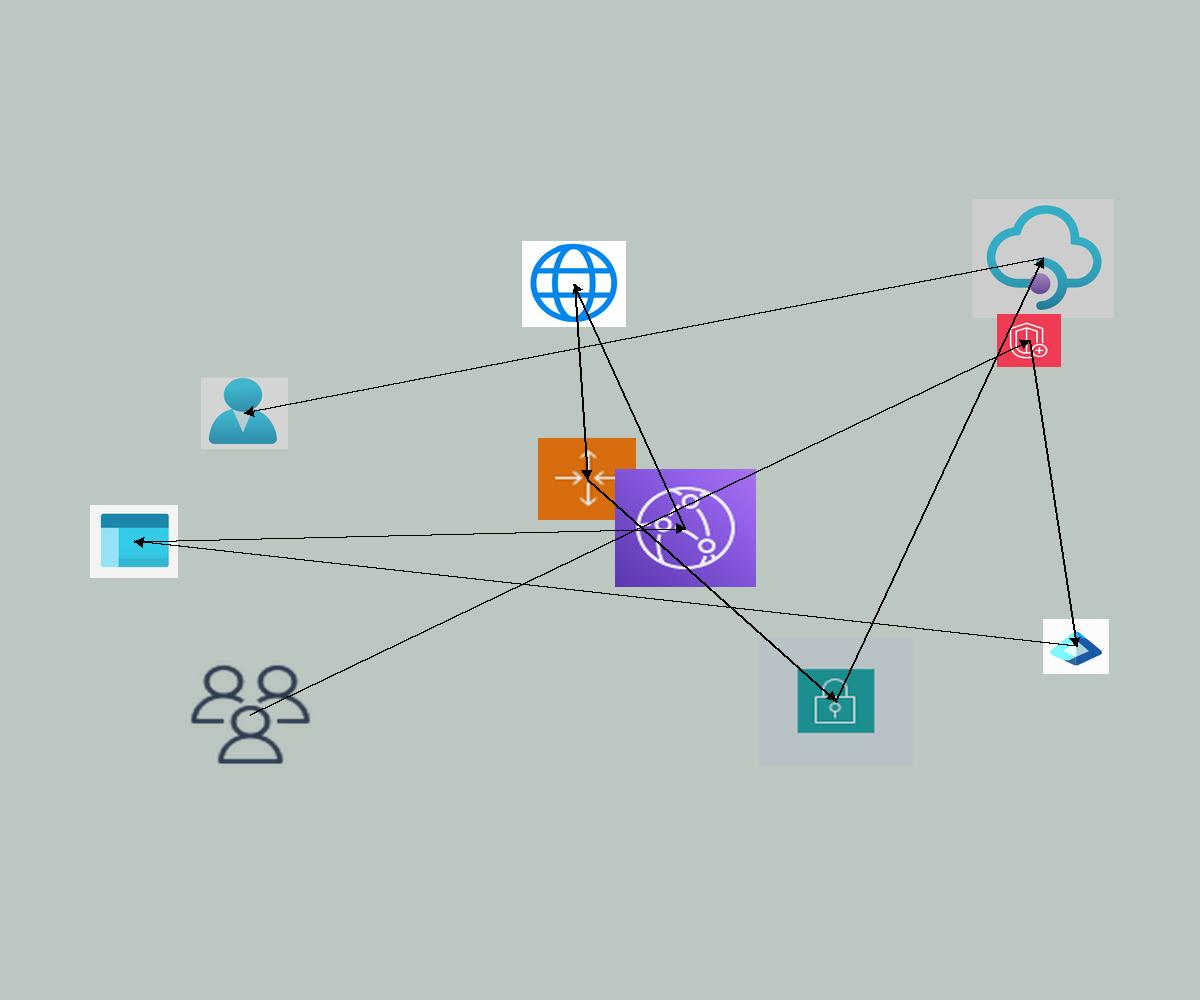AWS-CloudFront: (615, 469, 756, 587)
AWS-Private-subnet: (759, 637, 913, 765)
AWS-Res_Users: (186, 661, 315, 768)
AWS-Scaling-group: (538, 438, 636, 520)
AWS-Shield: (997, 314, 1061, 367)
Azure_api_gateway: (972, 199, 1114, 318)
Azure_http: (522, 241, 626, 327)
Azure_management-portal: (90, 505, 178, 578)
Azure_microsoft_entra: (1043, 619, 1109, 674)
Azure_users: (201, 377, 288, 449)
